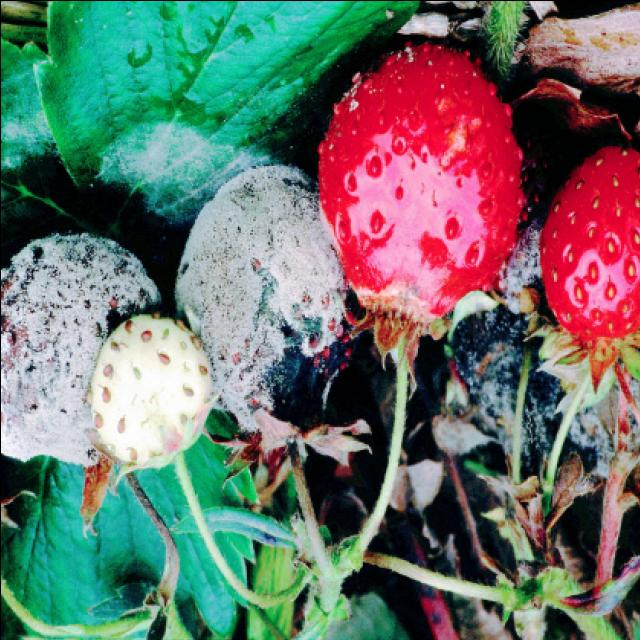Gray Mold: (173, 162, 370, 511), (2, 232, 163, 535)
